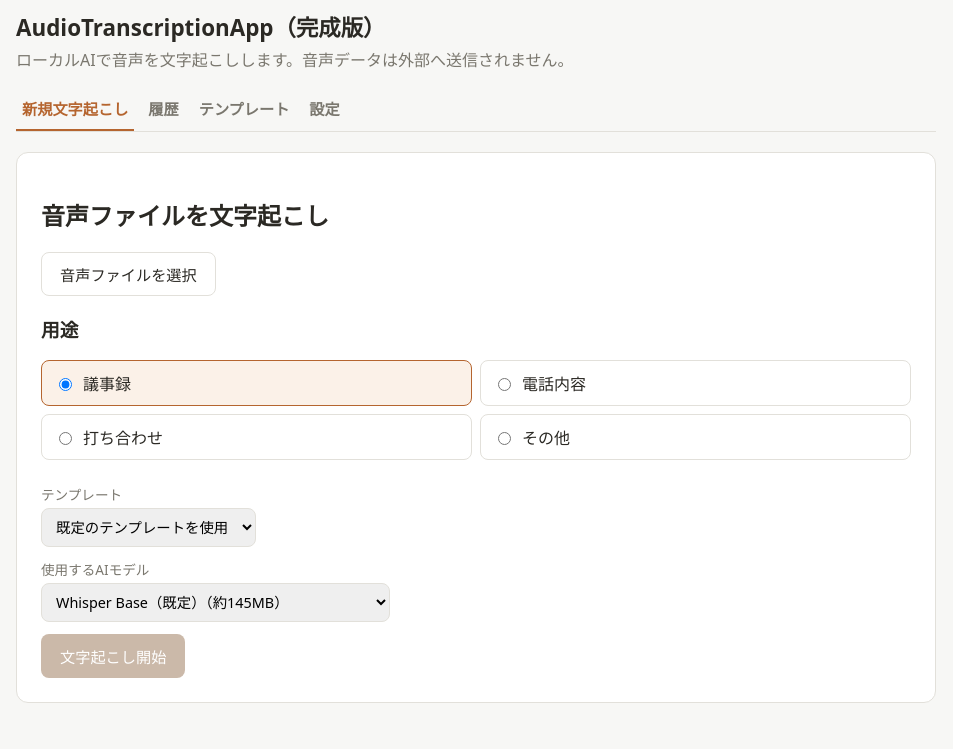
Test case: App（完成版 画面遷移） › 選択エラー時はエラーメッセージが表示される
Click the button "音声ファイルを選択" at (128, 274), box [41,252,216,296]
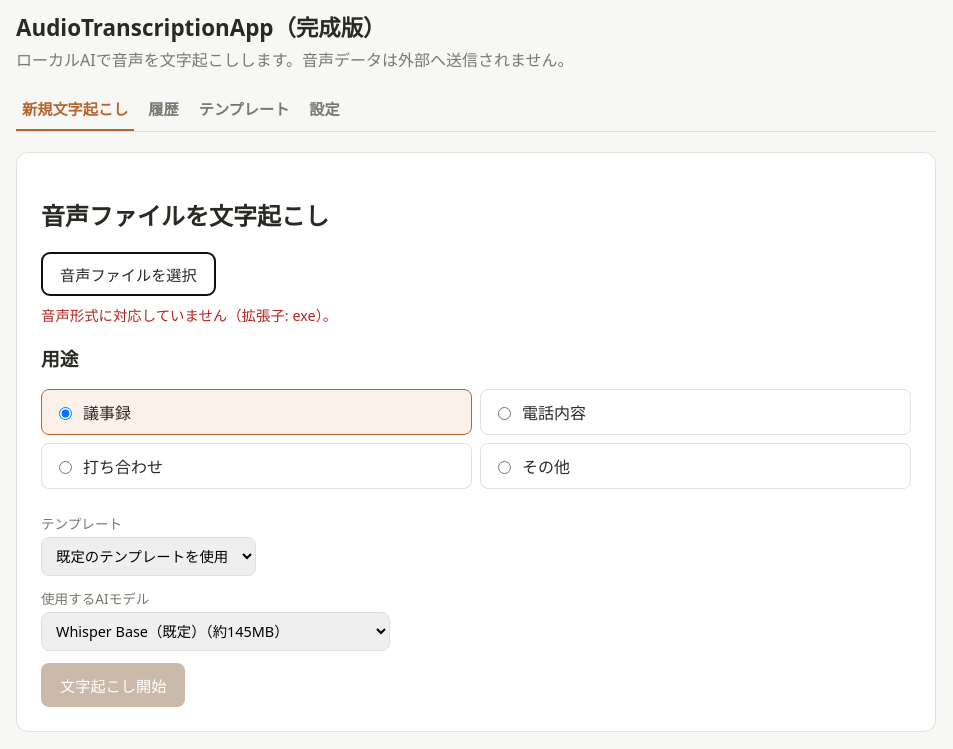
Now the message with test id "file-error" shows "音声形式に対応していません", box [41,306,337,325]
